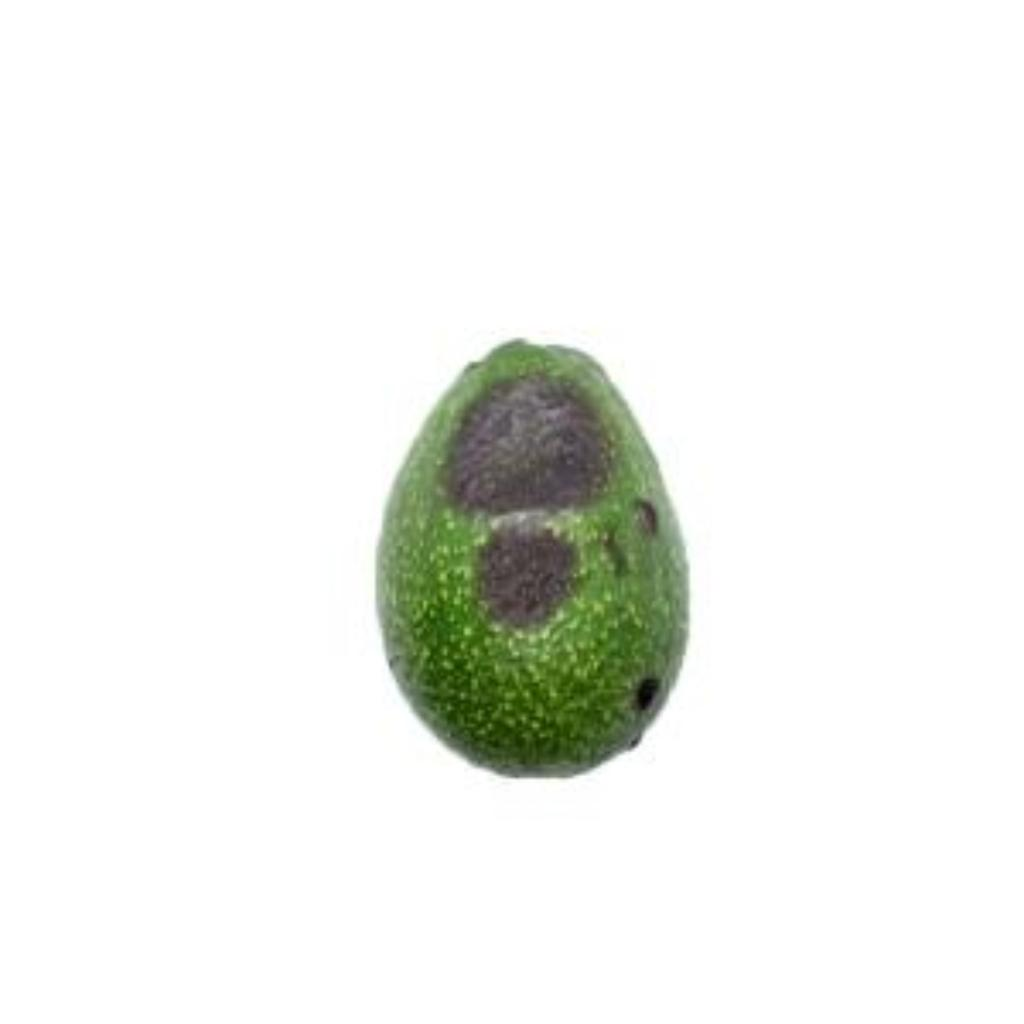cercospora: (369, 321, 717, 789)
